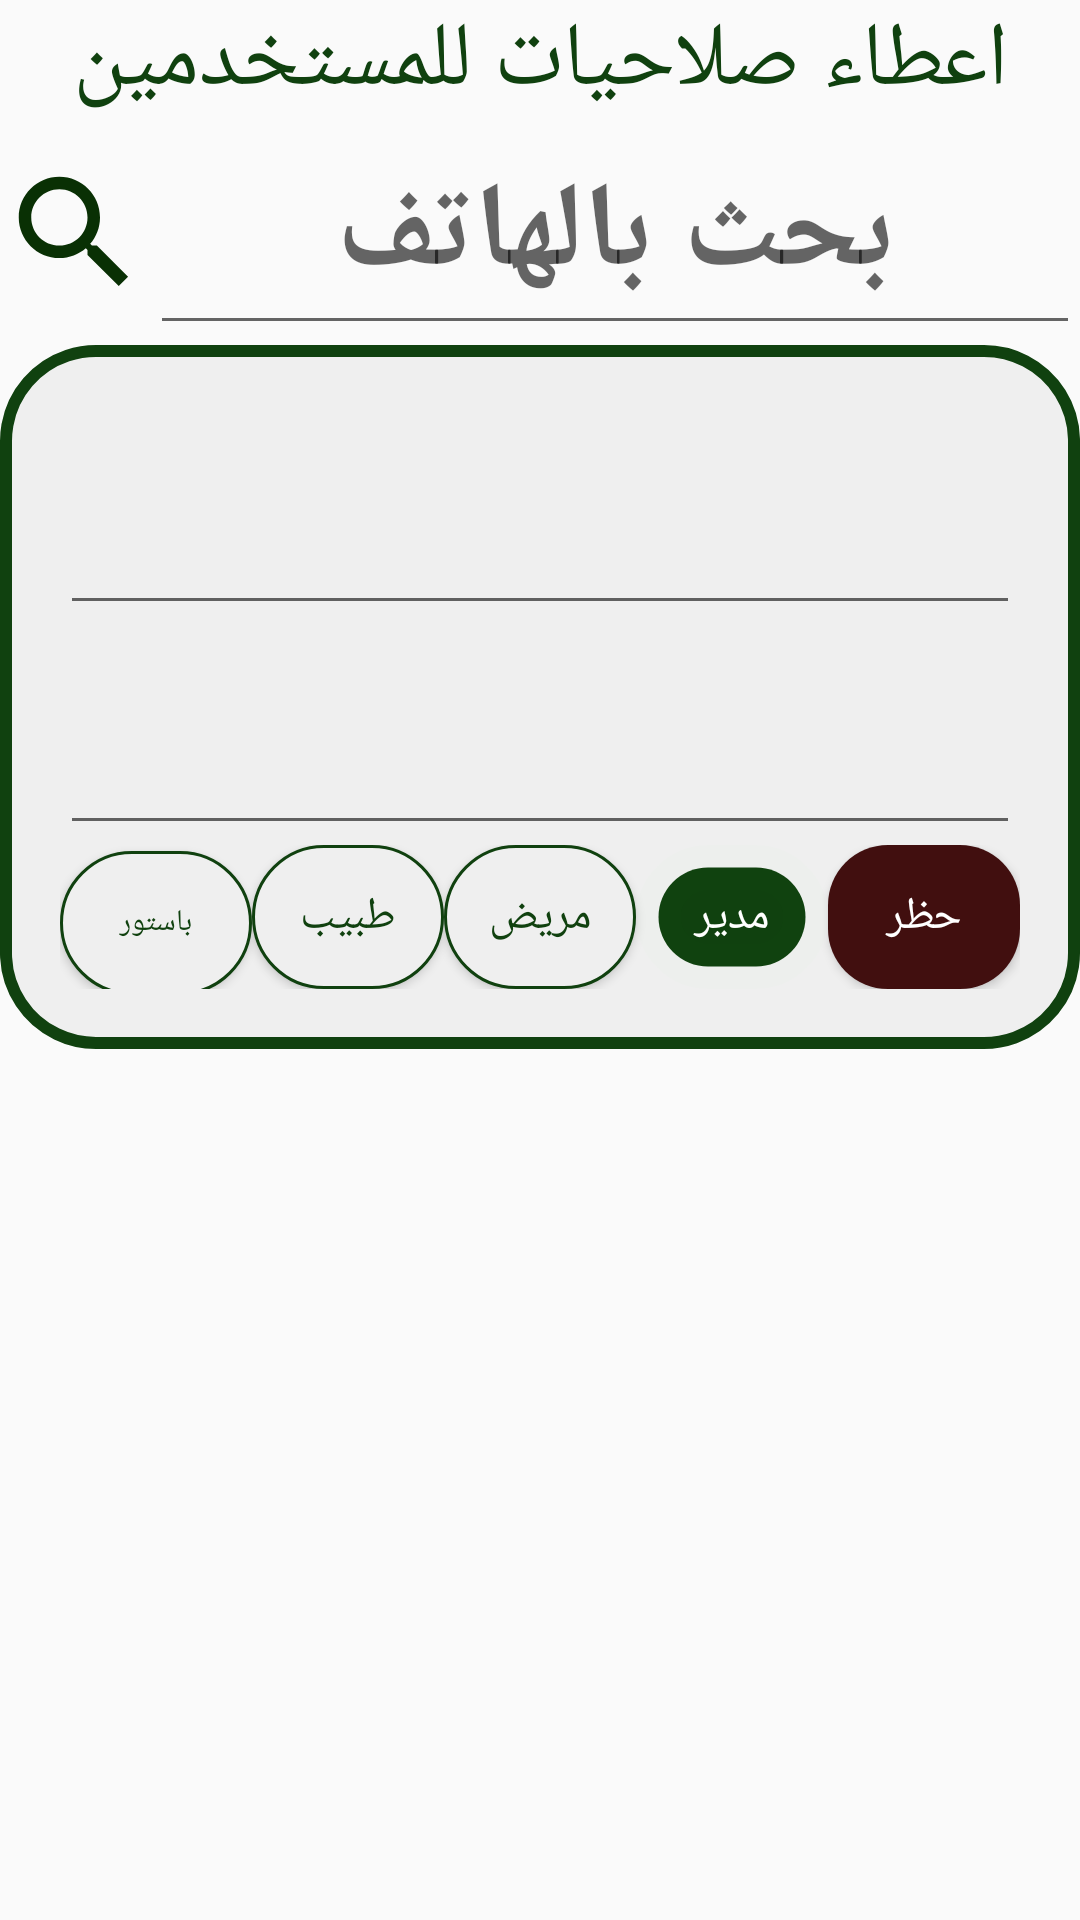

Named icons in this screenshot (1080 x 1920) and their bounding boxes, region(x1, y1, x2, y2):
search: region(18, 176, 128, 286)
